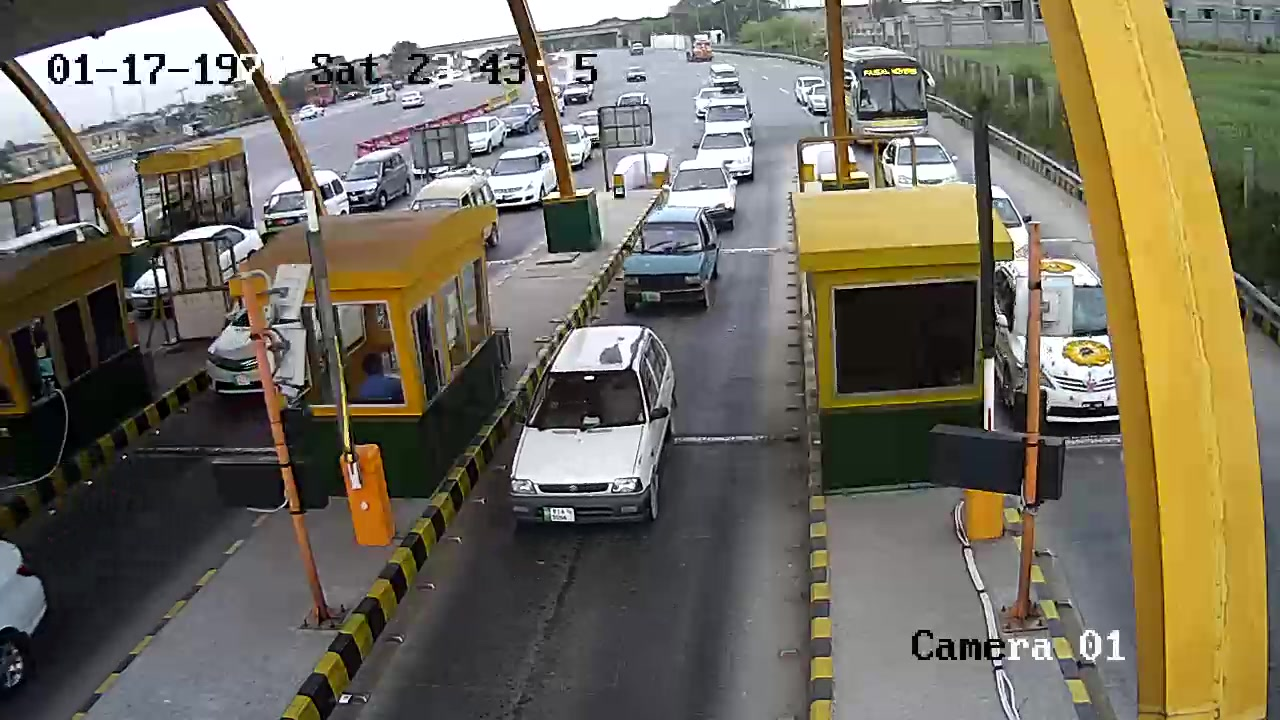F1: (501, 321, 703, 556), (609, 205, 725, 320)
